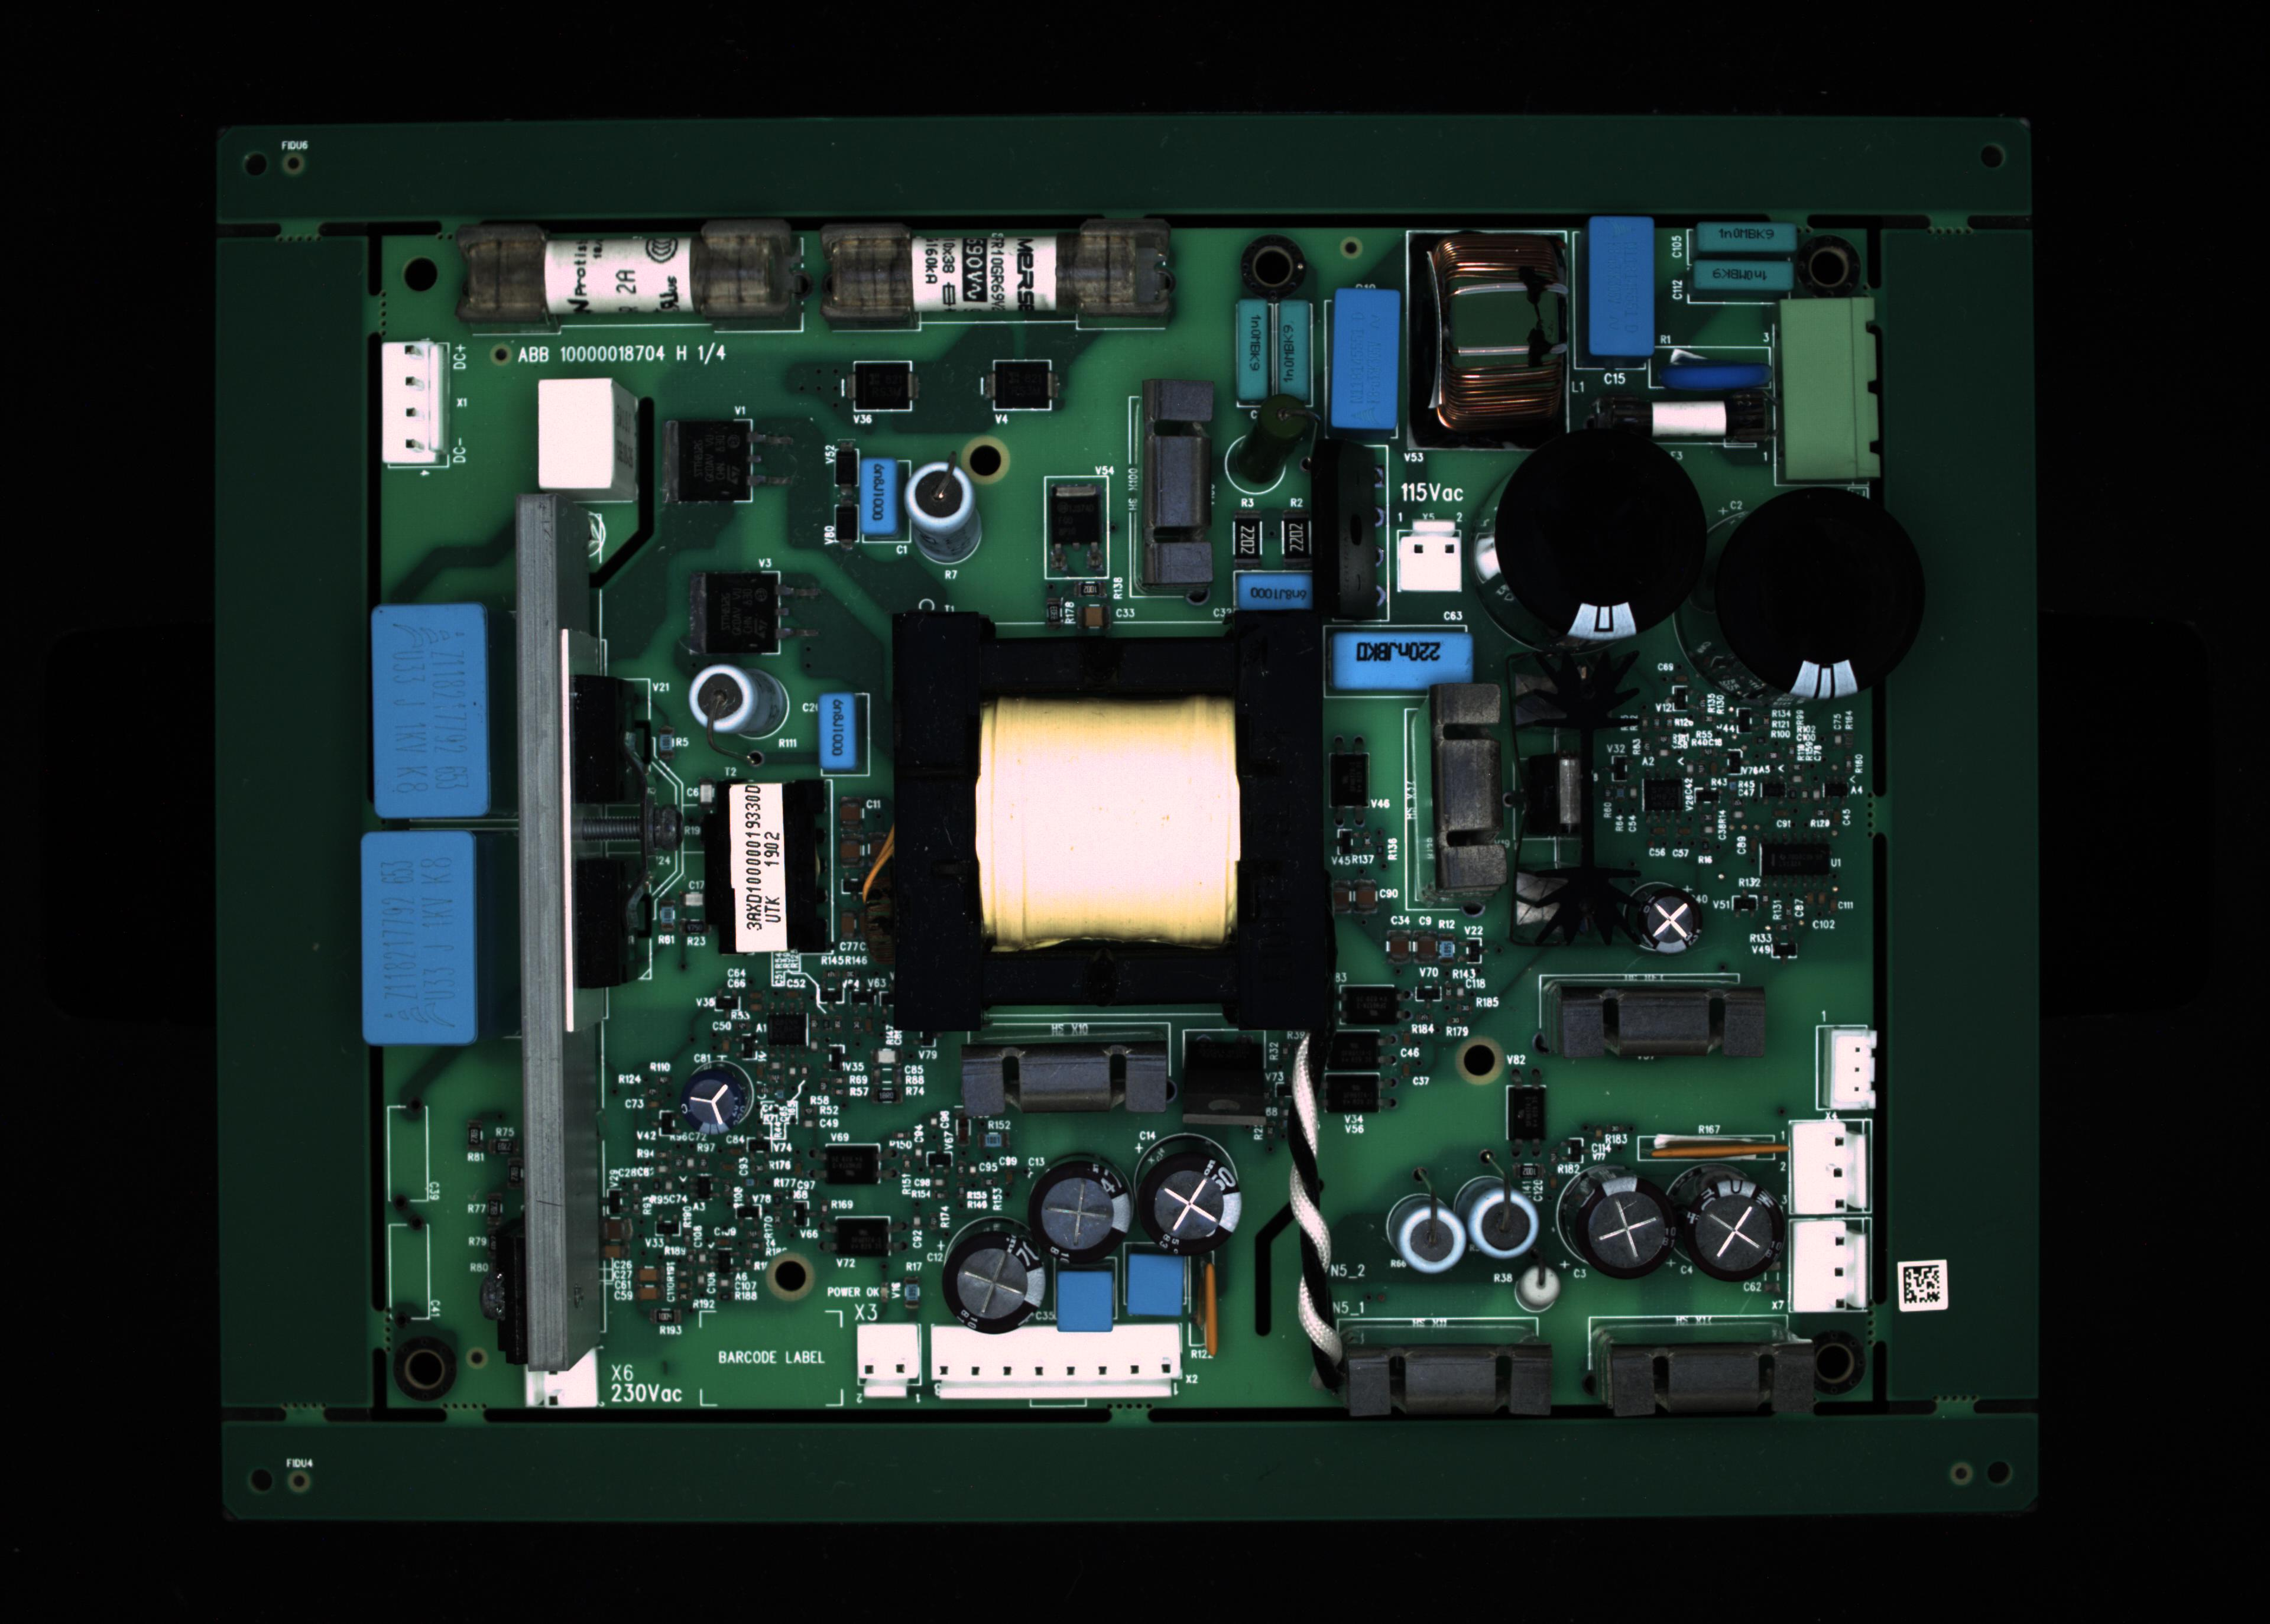10_p: (1651, 352, 1776, 399)
11_q: (1779, 297, 1885, 489)
12_r: (1591, 387, 1776, 455)
13_s: (380, 337, 450, 462)
14_t: (535, 380, 633, 492)
15_e: (855, 459, 897, 533)
16_k: (906, 464, 978, 533)
17_u: (1138, 385, 1206, 601)
18_v: (1243, 569, 1317, 608)
19_w: (1338, 627, 1473, 684)
1_a: (455, 216, 807, 336)
20_f: (1393, 517, 1470, 599)
21_g: (1479, 429, 1709, 645)
22_g: (1681, 482, 1929, 715)
23_h: (375, 603, 484, 812)
24_h: (364, 826, 482, 1044)
25_f: (522, 1362, 598, 1413)
26_f: (851, 1323, 927, 1403)
27_x: (925, 1323, 1185, 1415)
28_i: (1132, 1146, 1241, 1258)
29_i: (1027, 1153, 1134, 1274)
2_a: (819, 216, 1175, 330)
30_i: (941, 1216, 1055, 1339)
31_j: (1050, 1267, 1120, 1339)
32_j: (1129, 1250, 1199, 1320)
33_e: (814, 692, 858, 763)
34_k: (1384, 1190, 1465, 1281)
35_k: (1456, 1178, 1542, 1271)
36_i: (1556, 1164, 1672, 1295)
37_i: (1674, 1160, 1786, 1285)
38_l: (1343, 1341, 1560, 1424)
39_l: (1605, 1341, 1813, 1425)
3_b: (1236, 295, 1270, 399)
40_l: (1560, 977, 1771, 1060)
41_y: (1435, 677, 1502, 914)
42_z: (1827, 1026, 1878, 1114)
43_m: (1792, 1120, 1874, 1216)
44_m: (1788, 1225, 1876, 1311)
45_i: (679, 1065, 756, 1142)
46_n: (1338, 982, 1412, 1028)
47_n: (825, 1142, 884, 1181)
48_n: (833, 1214, 893, 1257)
49_aa: (763, 1011, 816, 1056)
4_b: (1280, 299, 1317, 402)
50_n: (1321, 1030, 1391, 1070)
51_n: (1308, 1070, 1396, 1120)
52_ab: (1326, 747, 1368, 810)
53_ac: (1656, 1130, 1790, 1165)
54_ad: (1194, 1253, 1222, 1364)
55_l: (960, 1037, 1175, 1118)
56_ae: (1176, 1025, 1282, 1132)
57_af: (1509, 647, 1635, 951)
58_i: (1630, 884, 1706, 958)
59_o: (988, 359, 1055, 410)
5_c: (1328, 286, 1400, 429)
60_o: (851, 360, 913, 411)
6_6: (1405, 232, 1572, 452)
7_c: (1588, 214, 1653, 353)
8_d: (1693, 216, 1792, 255)
9_d: (1695, 262, 1793, 290)
